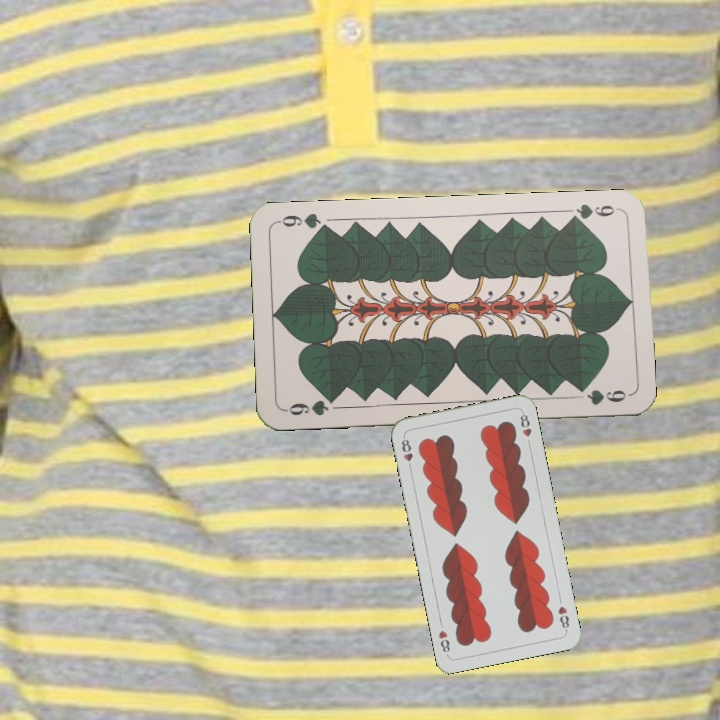G9: (281, 393, 340, 419), (564, 199, 623, 225)
H8: (397, 432, 415, 473), (554, 602, 572, 634)
